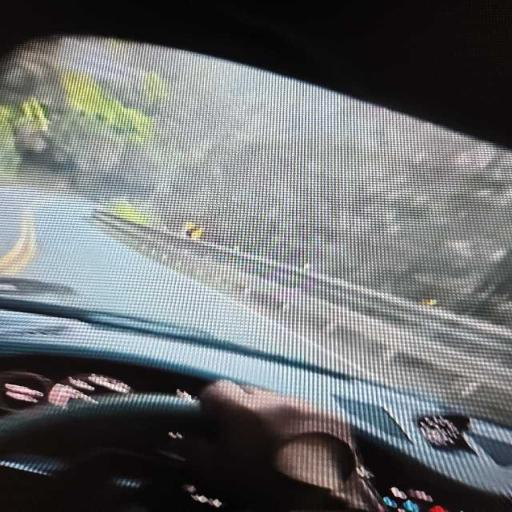car: (0, 38, 511, 511)
lane: (0, 189, 511, 423), (109, 229, 511, 422)
person: (185, 381, 382, 511)
